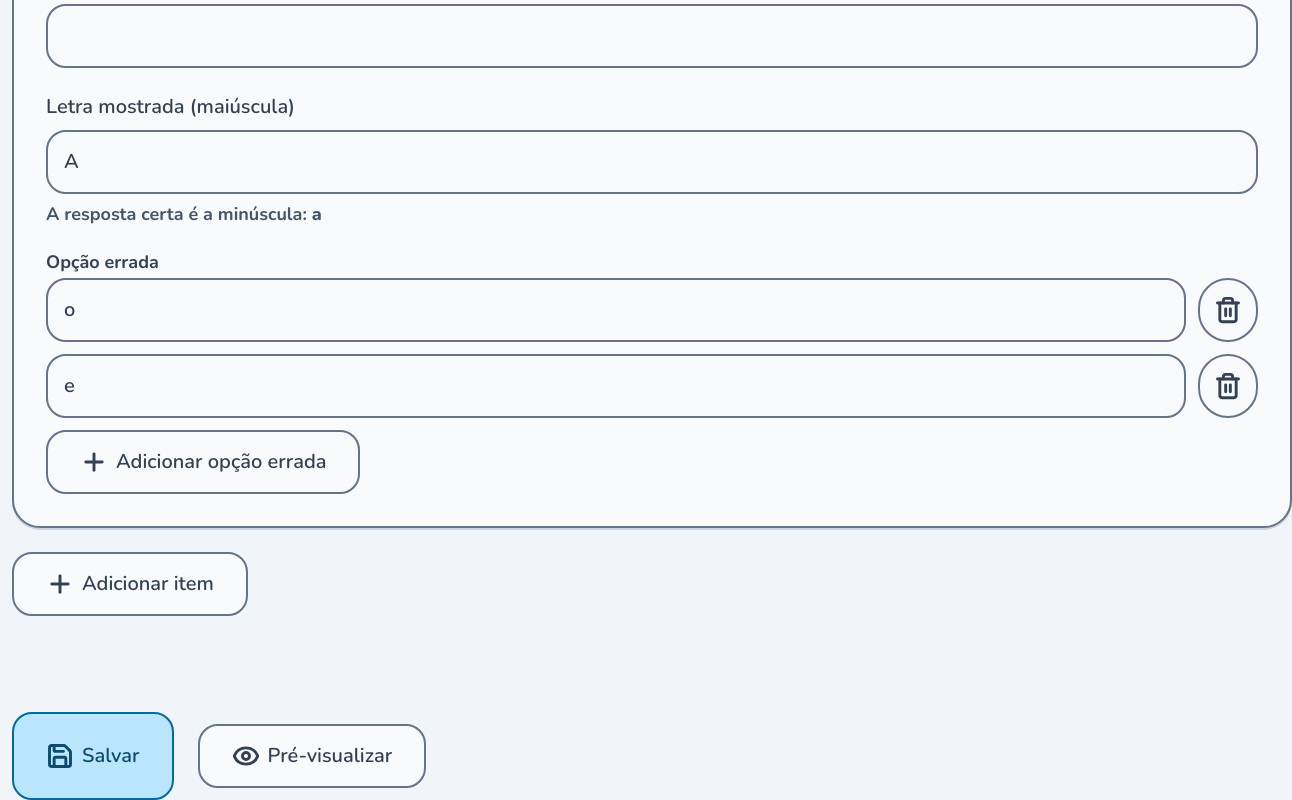
Test: ActivityEditor — itens › limita a 3 opções erradas
This screenshot has width=1292, height=800.
(page scrolled)
Click the button "Adicionar opção errada" at (203, 462), box [46, 430, 360, 494]
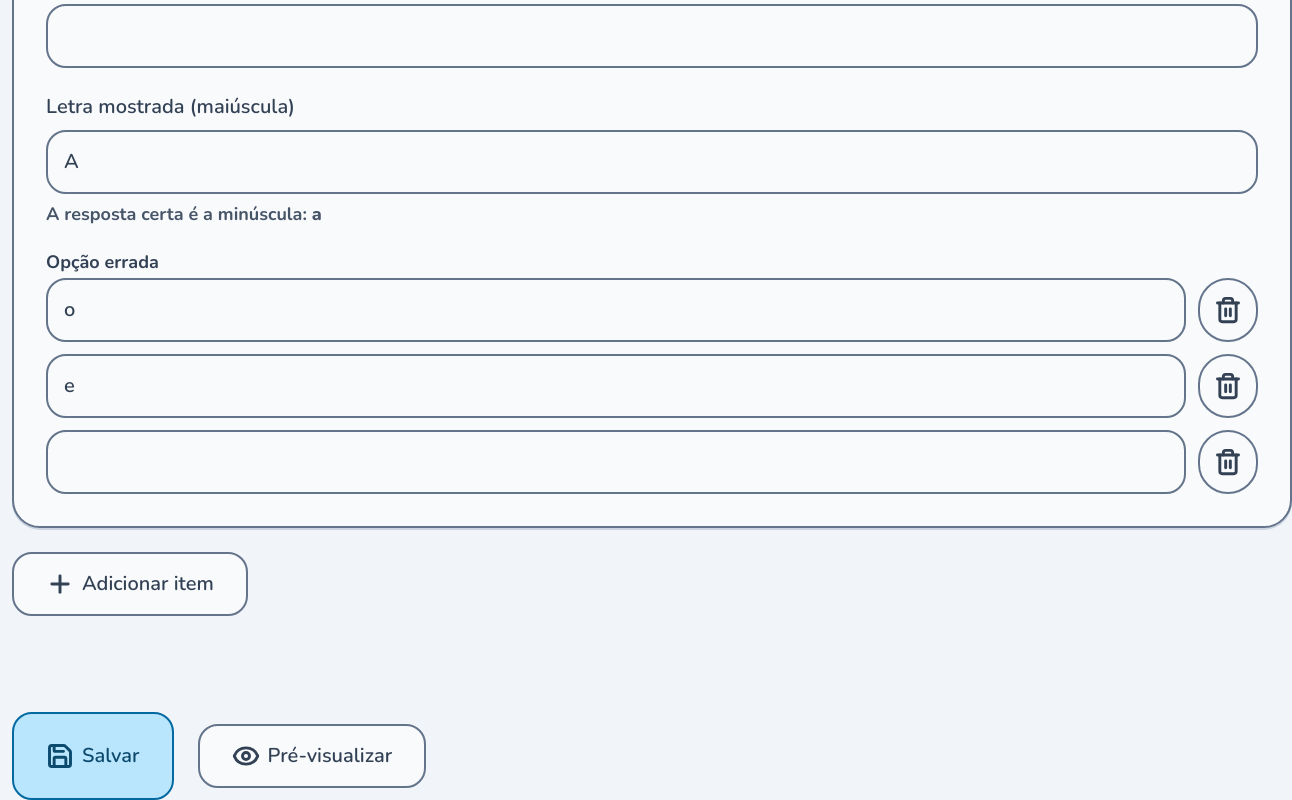
Expected: the number of fields named "Opção errada 1" is 3, [46, 278, 1186, 342]; [46, 354, 1186, 418]; [46, 430, 1186, 494]
Expected: the button "Adicionar opção errada" is gone
